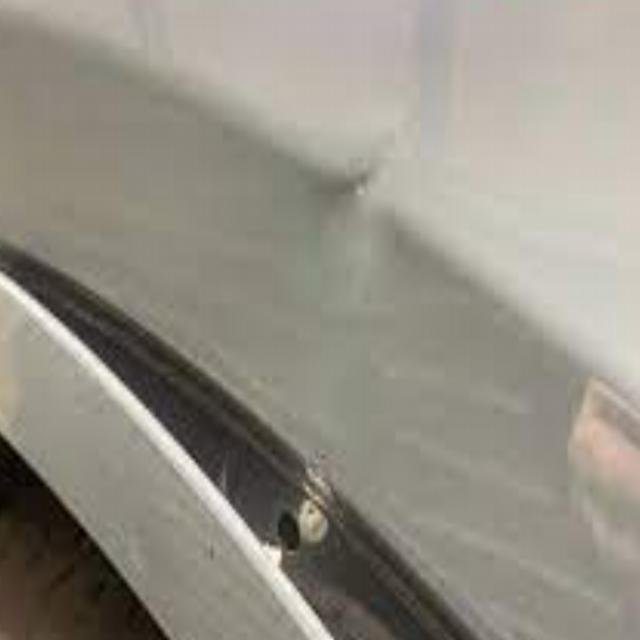dents: (320, 127, 399, 246)
